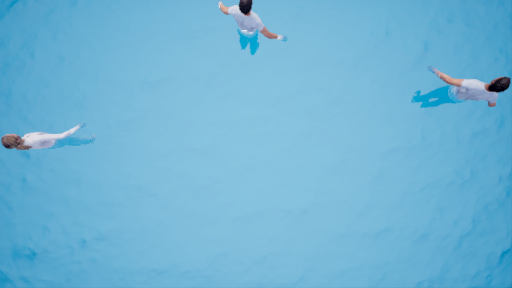person: (399, 63, 512, 120), (207, 1, 292, 57), (1, 119, 106, 158)
